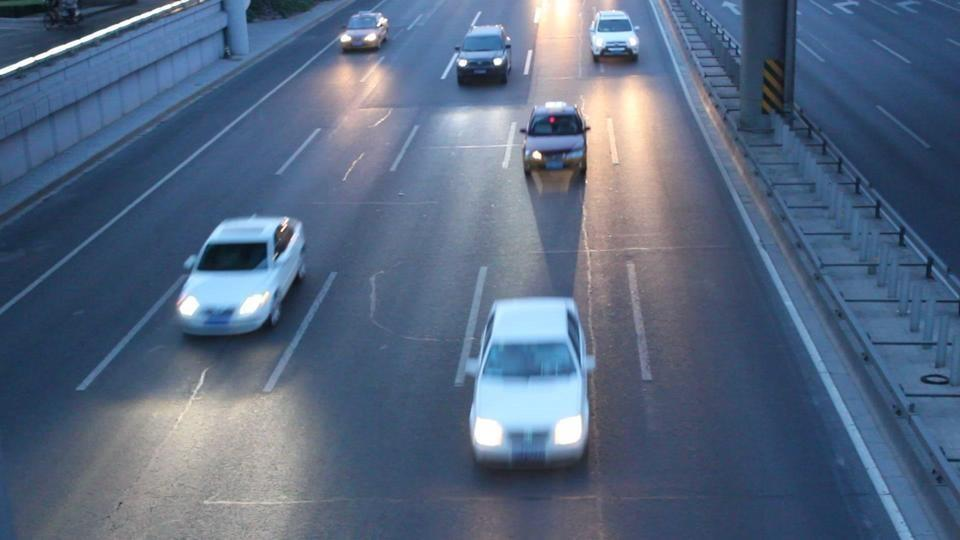car: (468, 296, 597, 472), (174, 214, 308, 338), (520, 101, 590, 173), (455, 24, 513, 86), (588, 10, 640, 63), (339, 11, 390, 53)
